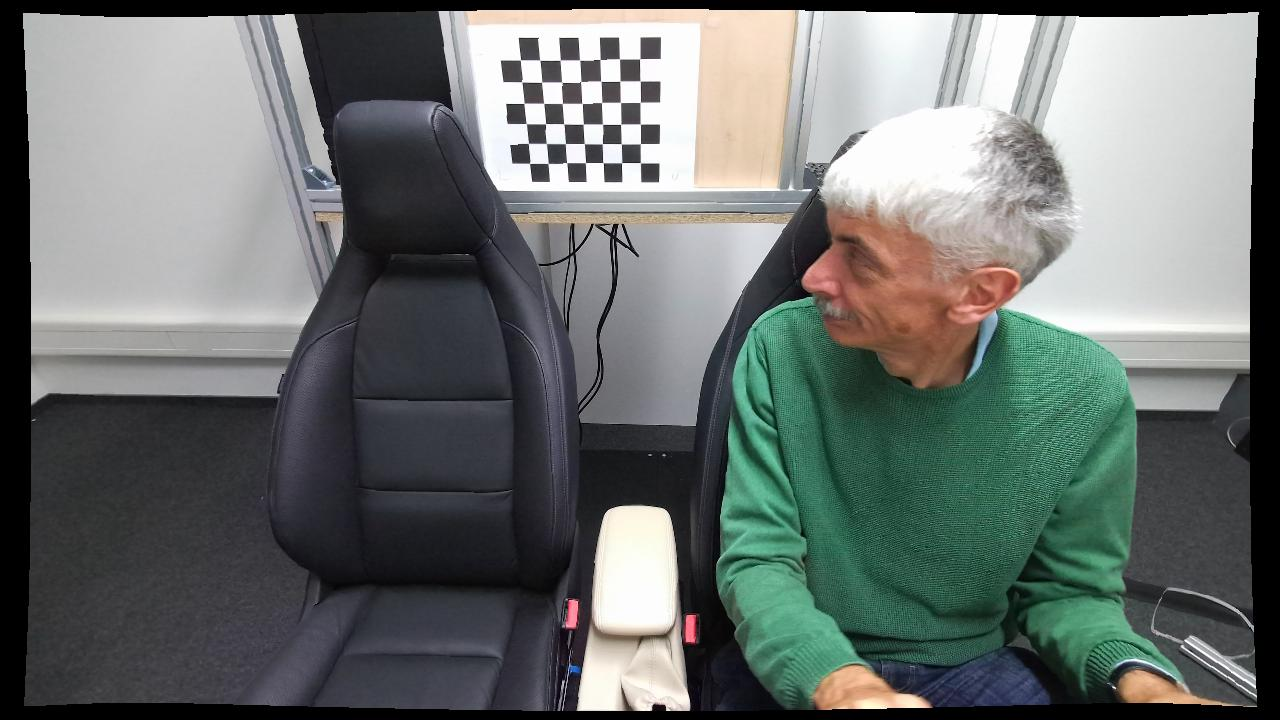Distracted: (712, 110, 1143, 714)
